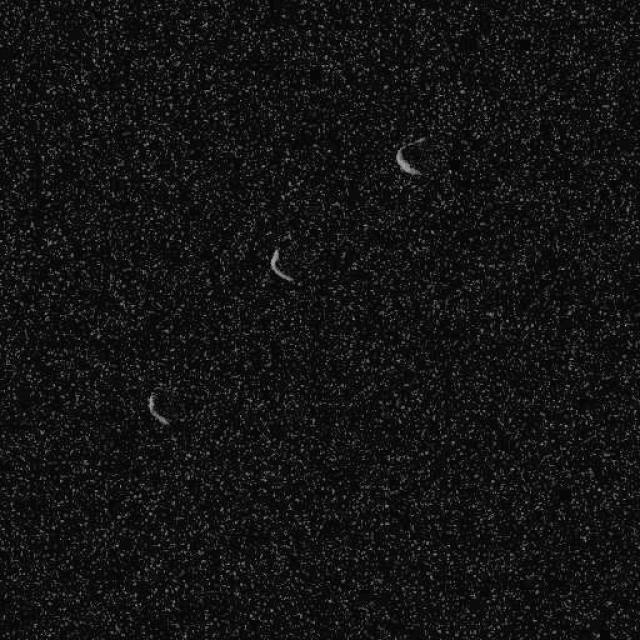D2: (393, 135, 428, 177), (267, 246, 295, 284), (145, 390, 171, 428)
